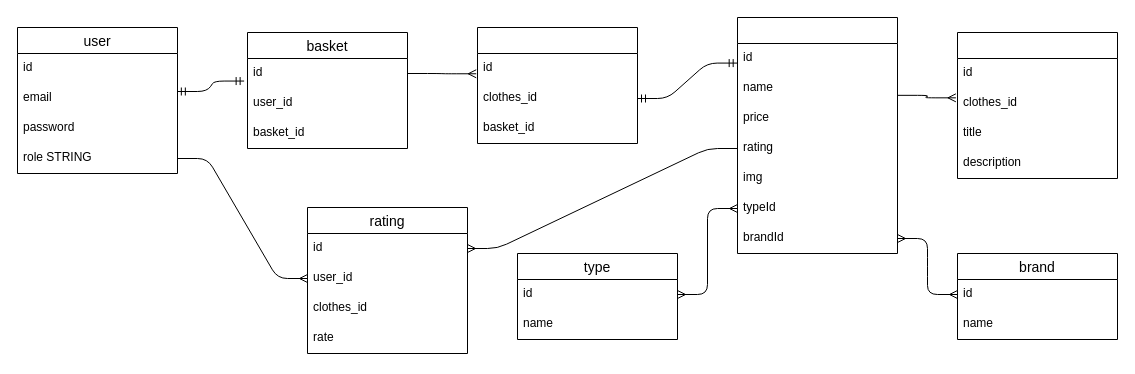
This 1135x374 diagram has some shape labels left out. Here are the shapes that lost their labels. From the top down, the box of each, then its label:
(476, 26, 638, 144): basket_clothes
(956, 32, 1118, 178): clothes_info
(736, 16, 898, 254): clothes
